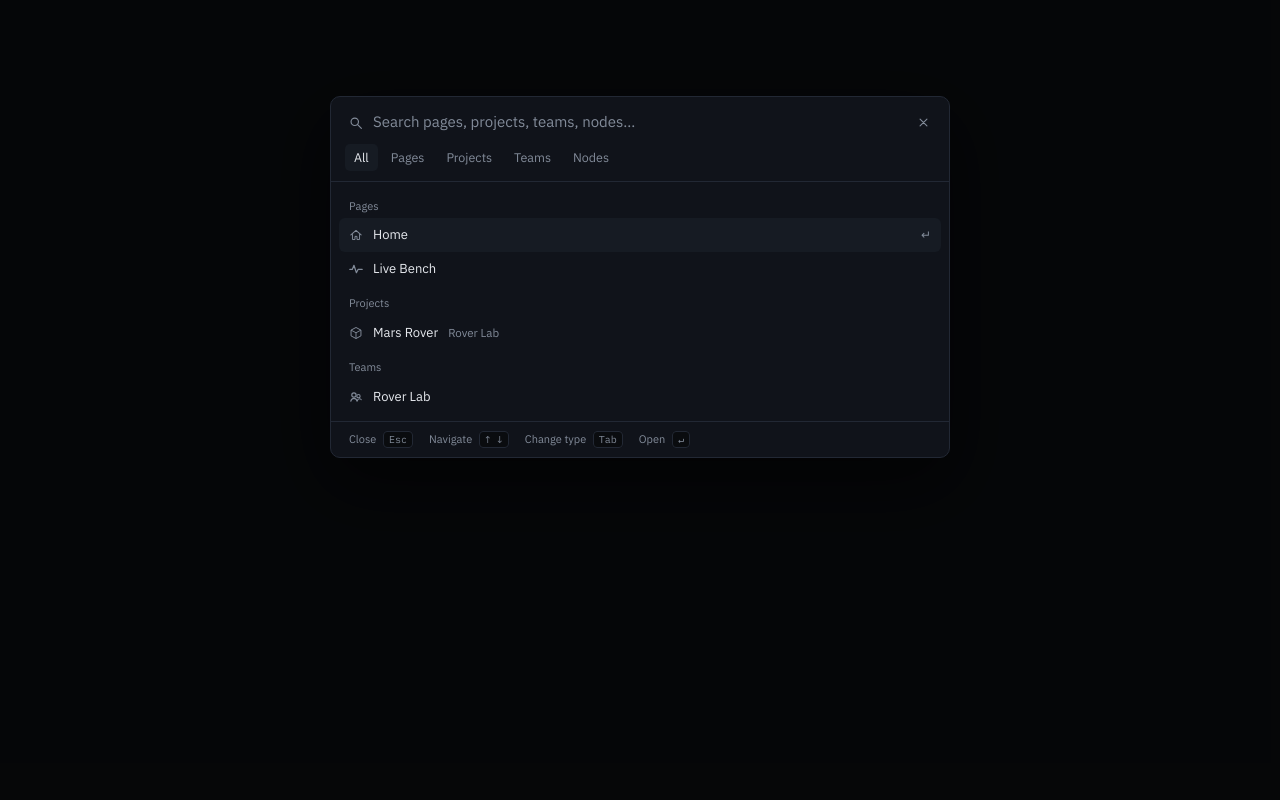
Test: CommandPalette › renders ingested node names as text, never markup
This screenshot has width=1280, height=800.
In the dropdown named "Search Solus": (638, 123) x1=373 y1=111 x2=902 y2=134, type "imu"
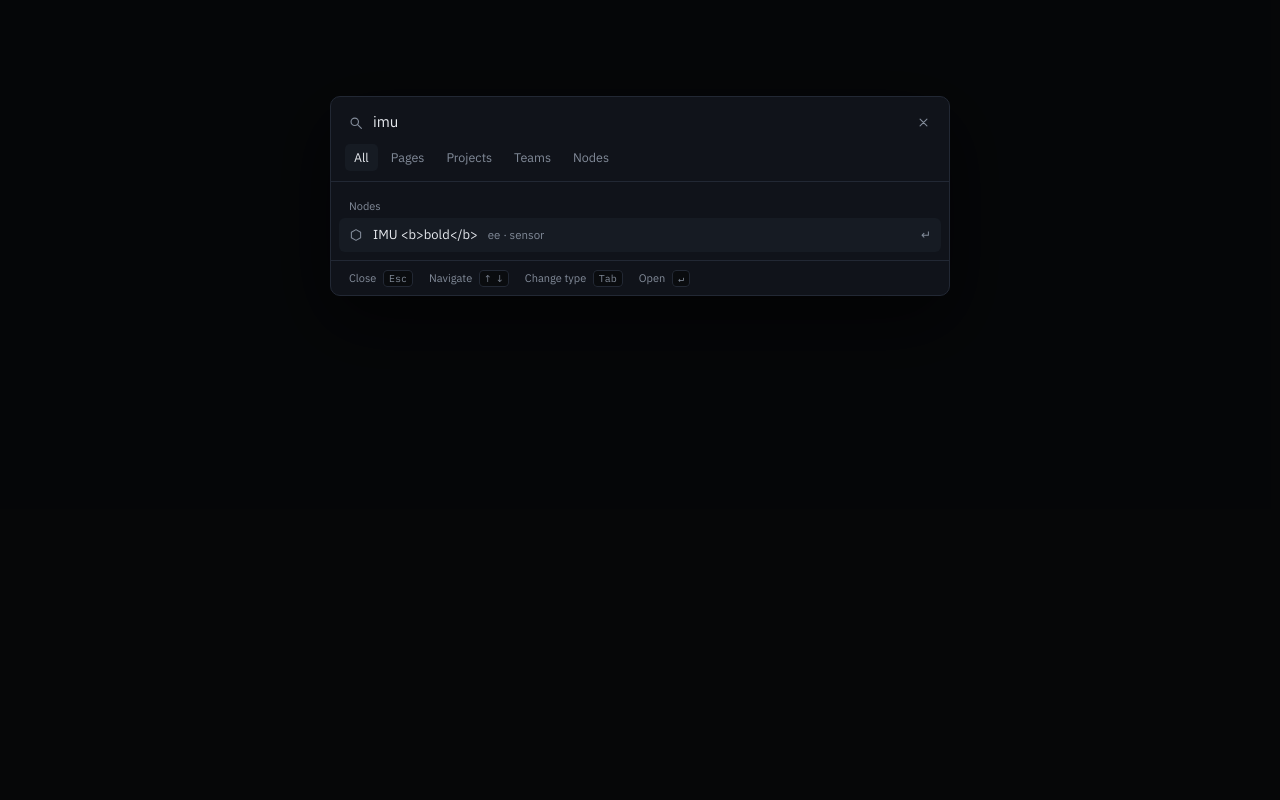
Expected: the text "IMU <b>bold</b>" is shown, x1=373 y1=225 x2=478 y2=245
